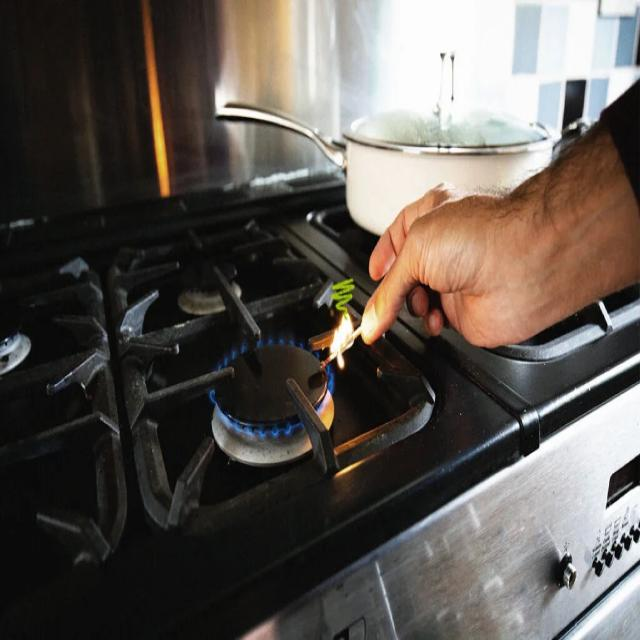fire: (321, 307, 355, 369), (239, 334, 312, 354), (231, 420, 303, 438)
